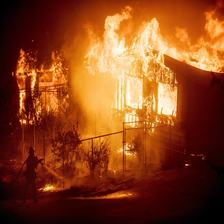fire: (86, 5, 221, 121), (16, 36, 78, 130)
